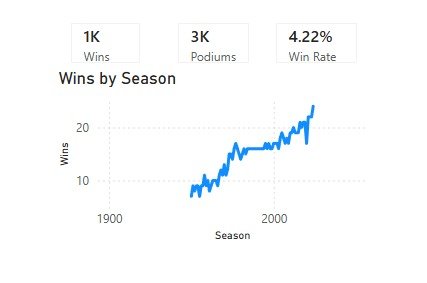

What the dashboard file says about the page in this screenshot:
{"tool":"powerbi","page":{"name":"Tooltip — Driver","canvas":[320,240],"ordinal":3},"visuals":[{"type":"cardVisual","fields":{"Data":["Sum(Race Result Enriched.win_flag)"]},"box":[0,0,103,74],"z":0},{"type":"cardVisual","fields":{"Data":["Sum(Race Result Enriched.podium_flag)"]},"box":[107,0,105,74],"z":1000},{"type":"cardVisual","fields":{"Data":["Race Result Enriched.Driver Win Rate"]},"box":[205,0,115,74],"z":2000},{"type":"lineChart","fields":{"Category":["Race Result Enriched.race_year"],"Y":["Sum(Race Result Enriched.win_flag)"]},"box":[0,62,320,178],"z":3000}]}

Visuals, with their boxes on the page's 320x240 design canvas (x1, y1, x2, y2). These are canvas units, not pixel positions in the 427x283 screenshot, which may show the page scaled, cropped or inside an application window:
cardVisual - Sum(Race Result Enriched.win_flag): Rect(0, 0, 103, 74)
cardVisual - Sum(Race Result Enriched.podium_flag): Rect(107, 0, 212, 74)
cardVisual - Race Result Enriched.Driver Win Rate: Rect(205, 0, 320, 74)
lineChart - Race Result Enriched.race_year x Sum(Race Result Enriched.win_flag): Rect(0, 62, 320, 240)
